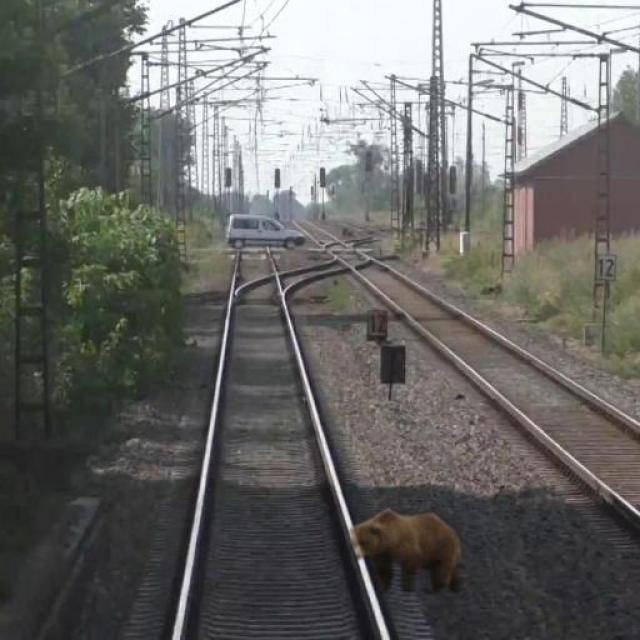Animals: (351, 506, 468, 594)
vehicle: (222, 207, 314, 256)
